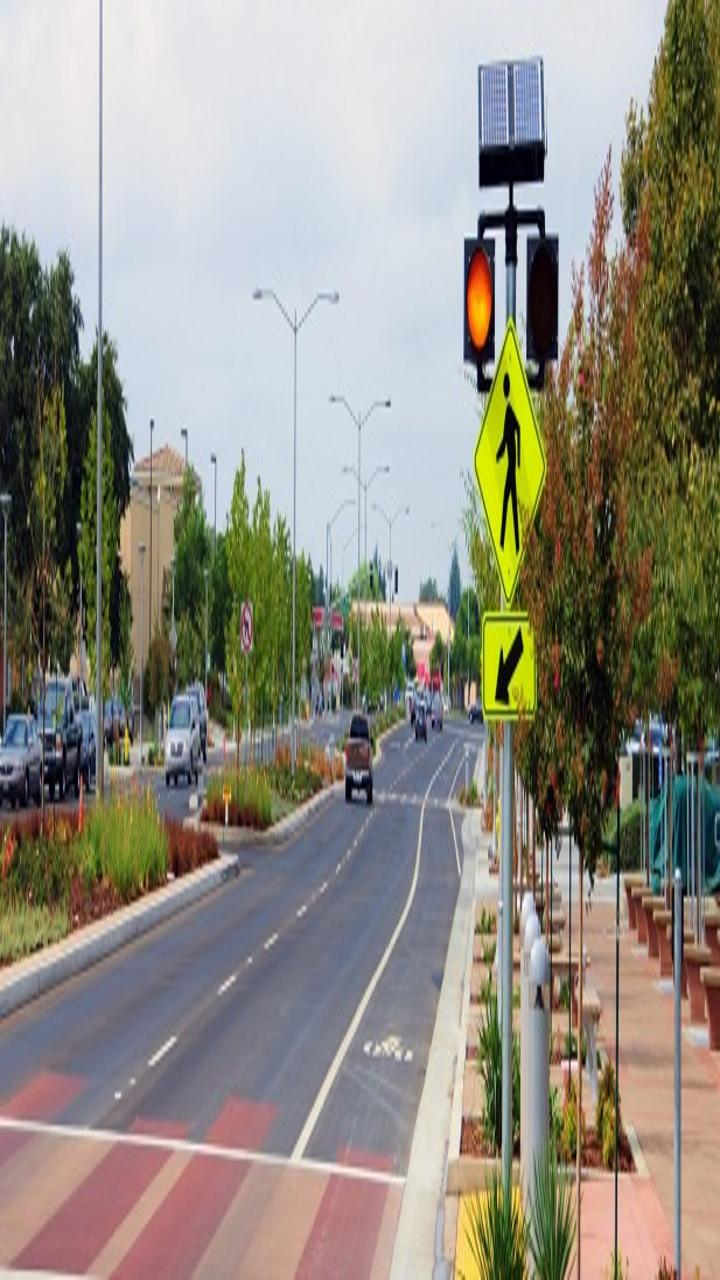Traffic sign: (463, 319, 575, 599), (451, 201, 590, 395), (460, 602, 573, 716)
vehicle: (26, 671, 106, 792), (330, 707, 406, 805), (148, 693, 224, 791), (1, 703, 59, 811)
